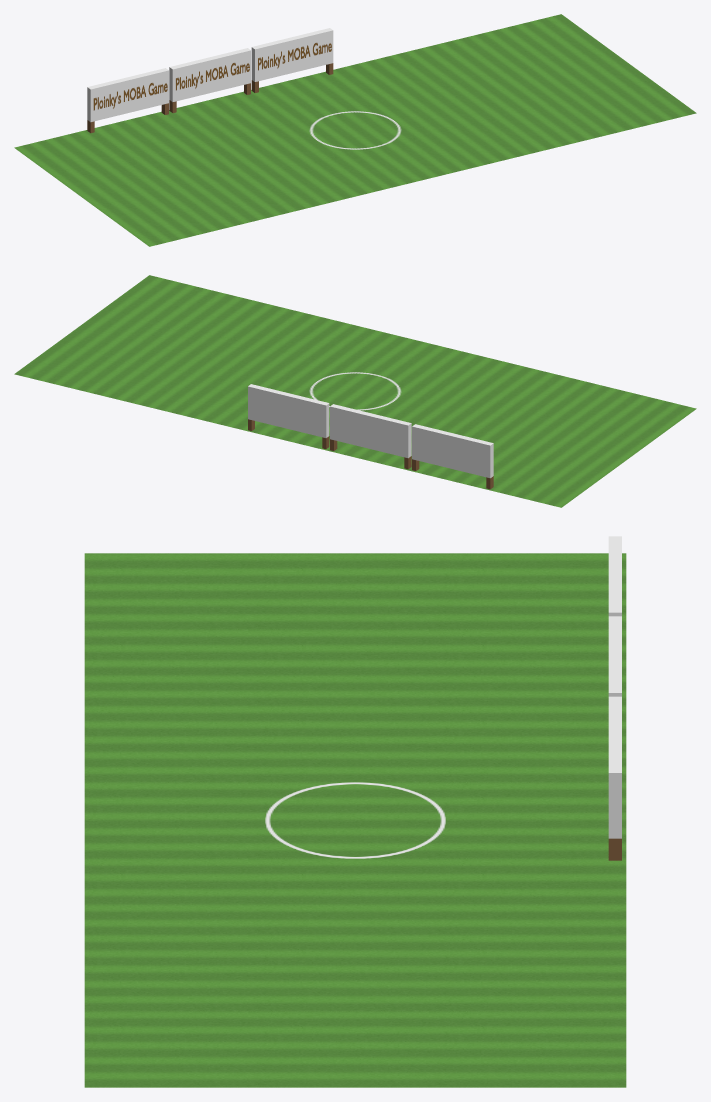
Rendered from map1.glb.
3 renders of one model, top to bottom at view 1: azimuth 30°, elevation 25°; view 2: azimuth 150°, elevation 25°; view 3: azimuth 270°, elevation 25°, orthographic. The views are drawn at different scales.
Visible parts, largest first — view 1: Plane.033, Plane.032, Plane.034, Plane.010, Plane.007, Plane.020, Plane.027, Plane.008, Plane.001, Plane.006, Plane.021, Plane.023 (+12 smaller); view 2: Plane.032, Plane.010, Plane.011, Plane.007, Plane.005, Plane.001, Plane.020, Plane.021, Plane.023, Plane.029, Plane.034, Plane.008 (+12 smaller); view 3: Plane.023, Plane.034, Plane.008, Plane.011, Plane.001, Plane.020, Plane.021, Plane.029, Plane.005, Plane.002, Plane.033, Plane.006 (+12 smaller).
Boxes of the visible parts, x1,y1,x2,y2 form: Plane.033: (294,104,416,156); Plane.032: (59,161,181,213); Plane.034: (104,194,227,246); Plane.010: (529,47,651,99); Plane.007: (450,66,572,118); Plane.020: (417,118,540,170); Plane.027: (138,142,260,194); Plane.008: (483,14,606,66); Plane.001: (405,33,527,85); Plane.006: (372,85,494,137); Plane.021: (496,99,618,151); Plane.023: (339,137,461,189); Plane.032: (529,422,651,474); Plane.010: (59,308,181,360); Plane.011: (104,275,227,327); Plane.007: (138,327,260,379); Plane.005: (417,351,540,403); Plane.001: (92,360,214,412); Plane.020: (261,313,383,365); Plane.021: (183,294,305,346); Plane.023: (339,332,461,384); Plane.029: (496,370,618,422); Plane.034: (574,389,696,441); Plane.008: (14,341,136,393); Plane.023: (84,782,265,858); Plane.034: (84,553,265,629); Plane.008: (445,1011,626,1087); Plane.011: (84,1011,265,1087); Plane.001: (445,935,626,1011); Plane.020: (84,858,265,934); Plane.021: (84,935,265,1011); Plane.029: (84,629,265,705); Plane.005: (84,706,265,782); Plane.002: (445,858,626,934); Plane.033: (265,782,445,858); Plane.006: (265,858,445,934).
Size of the model in its own units: 3500 by 268 by 1500.
Materials: 3 (3 with a texture image).
